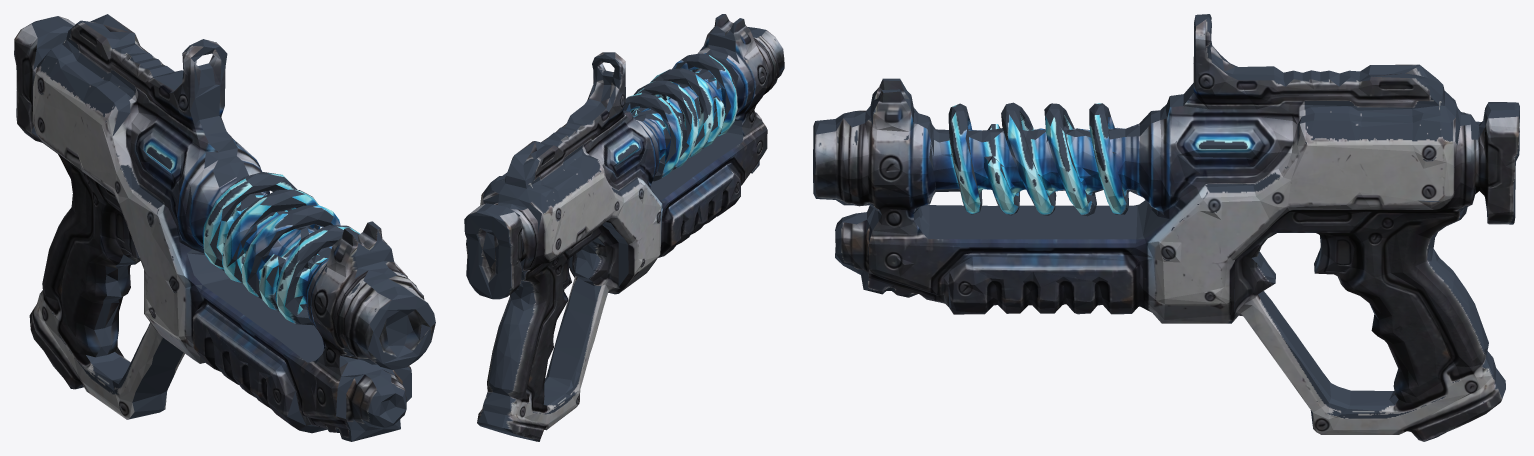
File: tempest.glb
3 renders of one model, left to right at view 1: azimuth 30°, elevation 25°; view 2: azimuth 150°, elevation 25°; view 3: azimuth 270°, elevation 25°, orthographic. The views are drawn at different scales.
Visible parts, largest first — view 1: Mesh_0; view 2: Mesh_0; view 3: Mesh_0.
Part boxes in pixels (x1,y1,x2,y2): Mesh_0: [14, 14, 435, 441]; Mesh_0: [464, 14, 784, 441]; Mesh_0: [813, 14, 1519, 441].
Size of the model in its own units: 0.1435 by 0.5869 by 0.9.
Materials: 1 (1 with a texture image).
